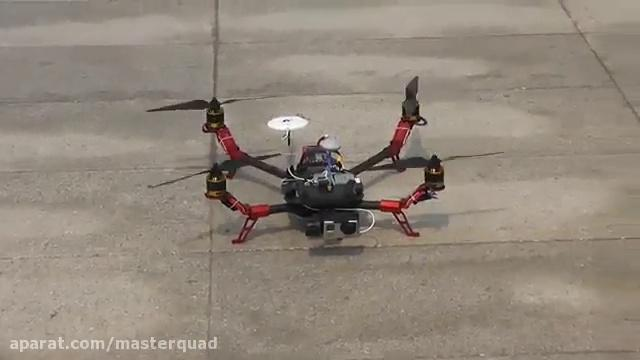drone: (146, 73, 507, 247)
